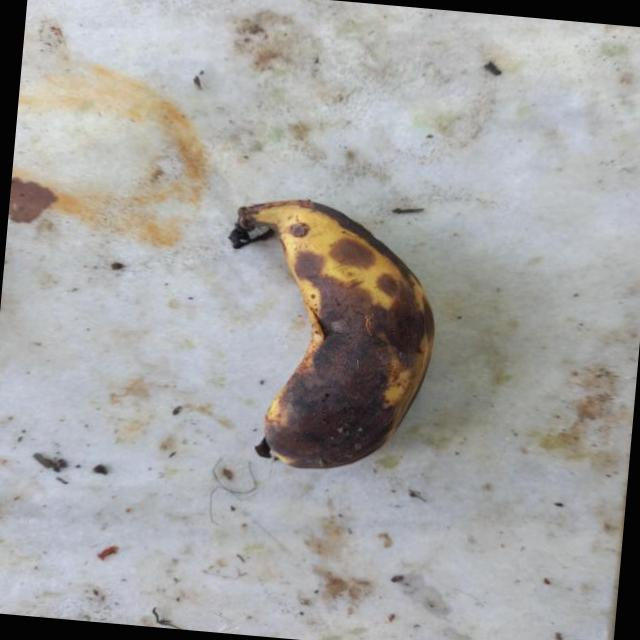Banana: (208, 192, 446, 480)
